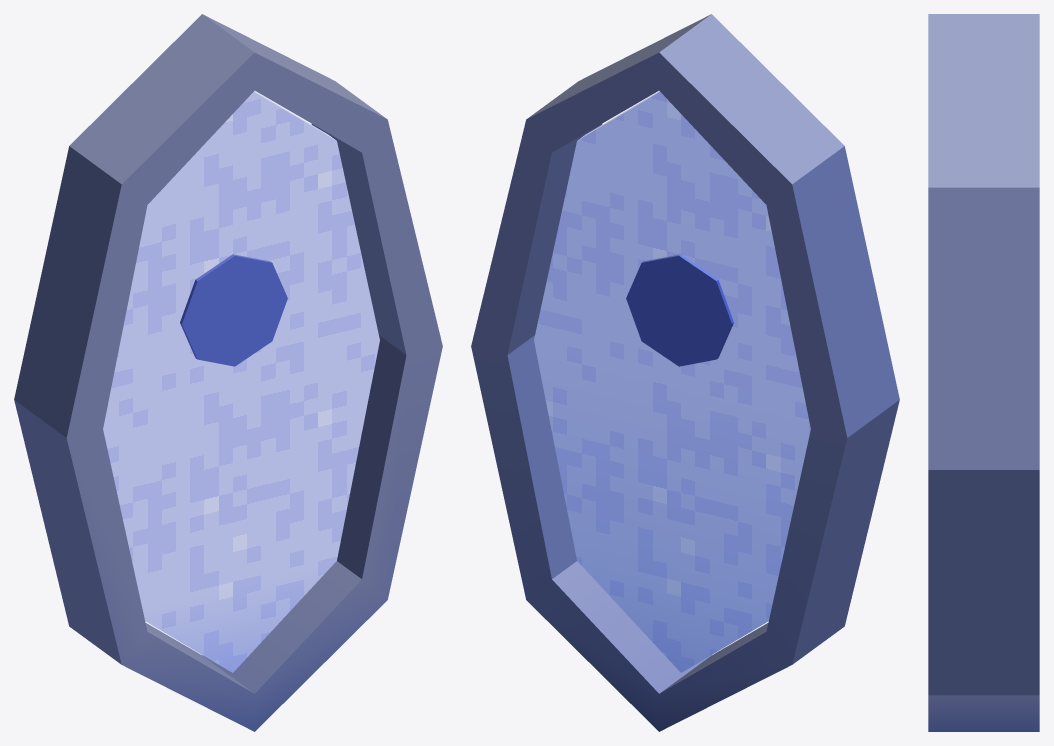
File: arch.door__hatch_lo.glb
3 views of the same model, side by side, from view 1: azimuth 30°, elevation 25°; view 2: azimuth 150°, elevation 25°; view 3: azimuth 270°, elevation 25° (orthographic). The views are drawn at different scales.
Parts seen in each view (by area): view 1: kit_door_leaf, kit_door_frame; view 2: kit_door_leaf, kit_door_frame; view 3: kit_door_frame.
Boxes of the visible parts, x1=… form: kit_door_leaf: x1=103, y1=91, x2=379, y2=672; kit_door_frame: x1=14, y1=14, x2=442, y2=731; kit_door_leaf: x1=534, y1=91, x2=810, y2=672; kit_door_frame: x1=471, y1=14, x2=899, y2=731; kit_door_frame: x1=928, y1=14, x2=1039, y2=731.
Size of the model in its own units: 1.24 by 2.14 by 0.3.
Materials: 3 (1 with a texture image).
